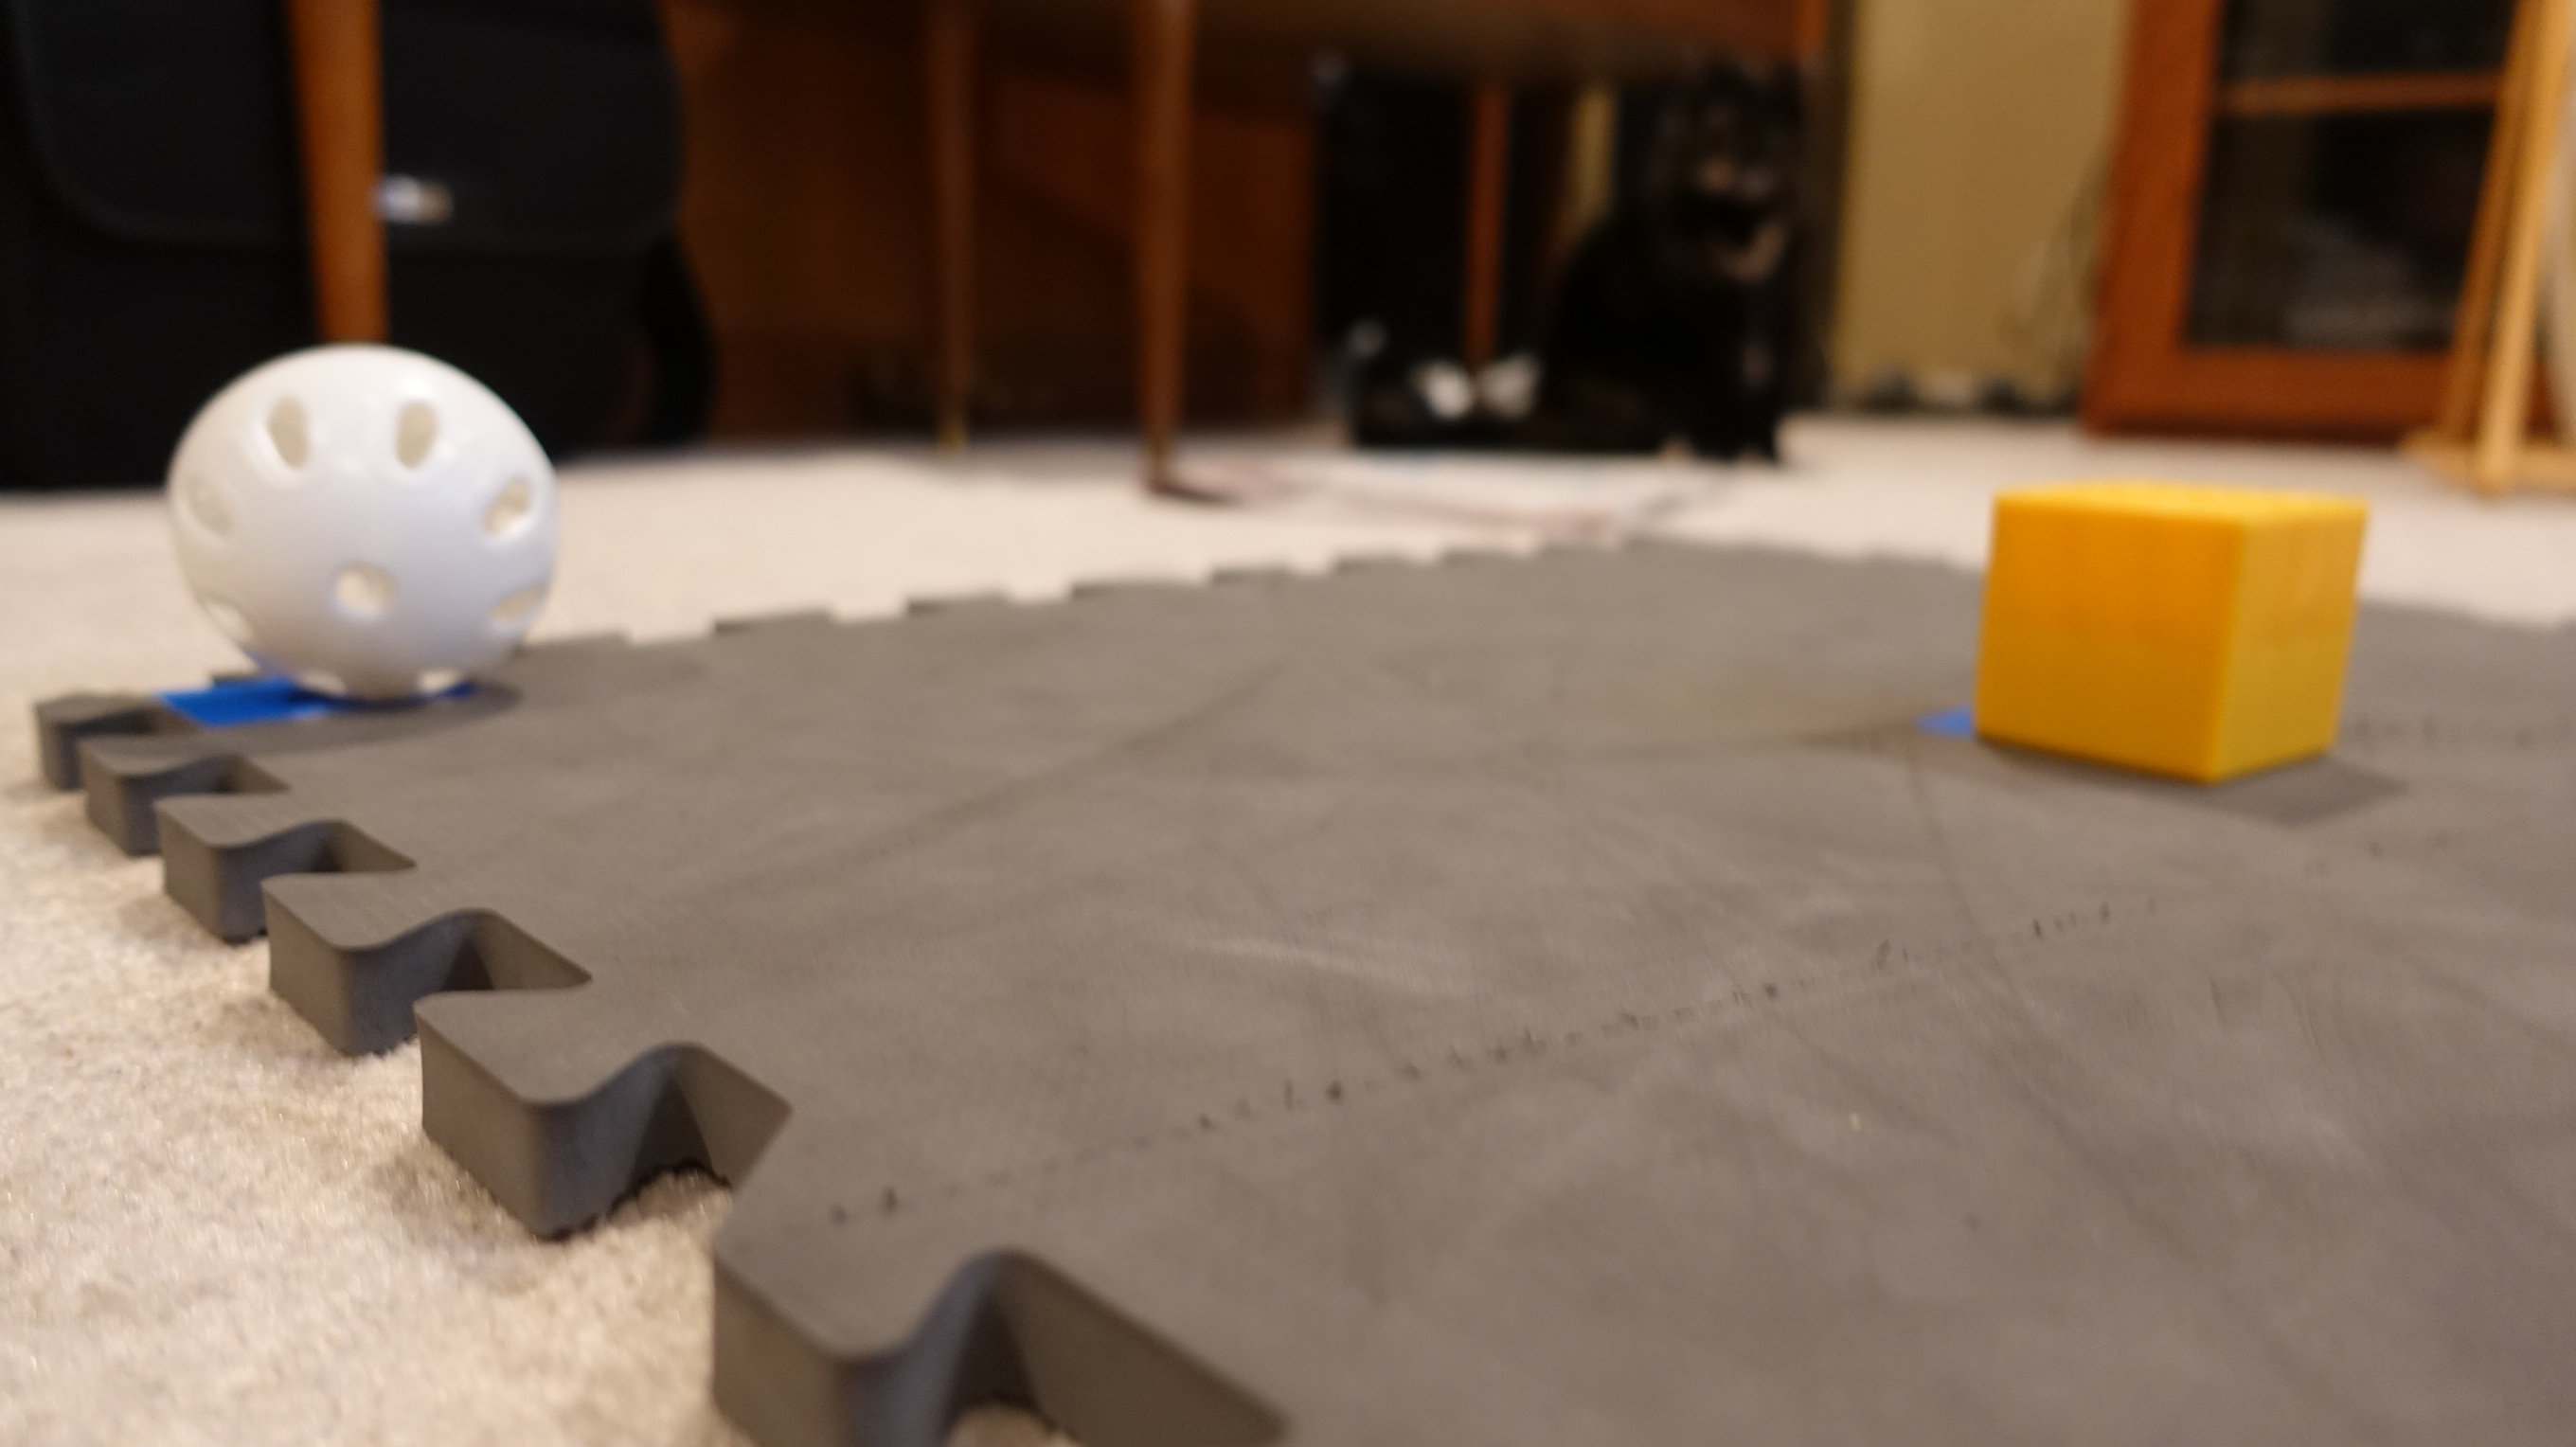gold: (1964, 485, 2383, 785)
silver: (147, 341, 571, 715)
